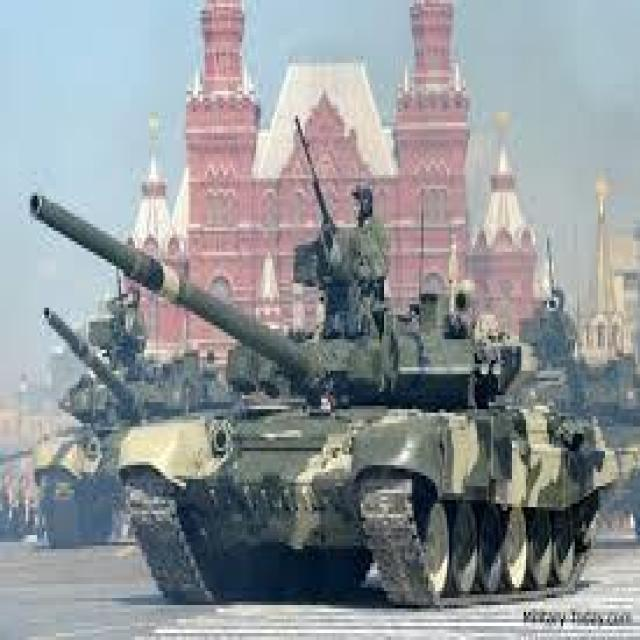MIL_MBT: (119, 222, 600, 603), (37, 290, 221, 542)
